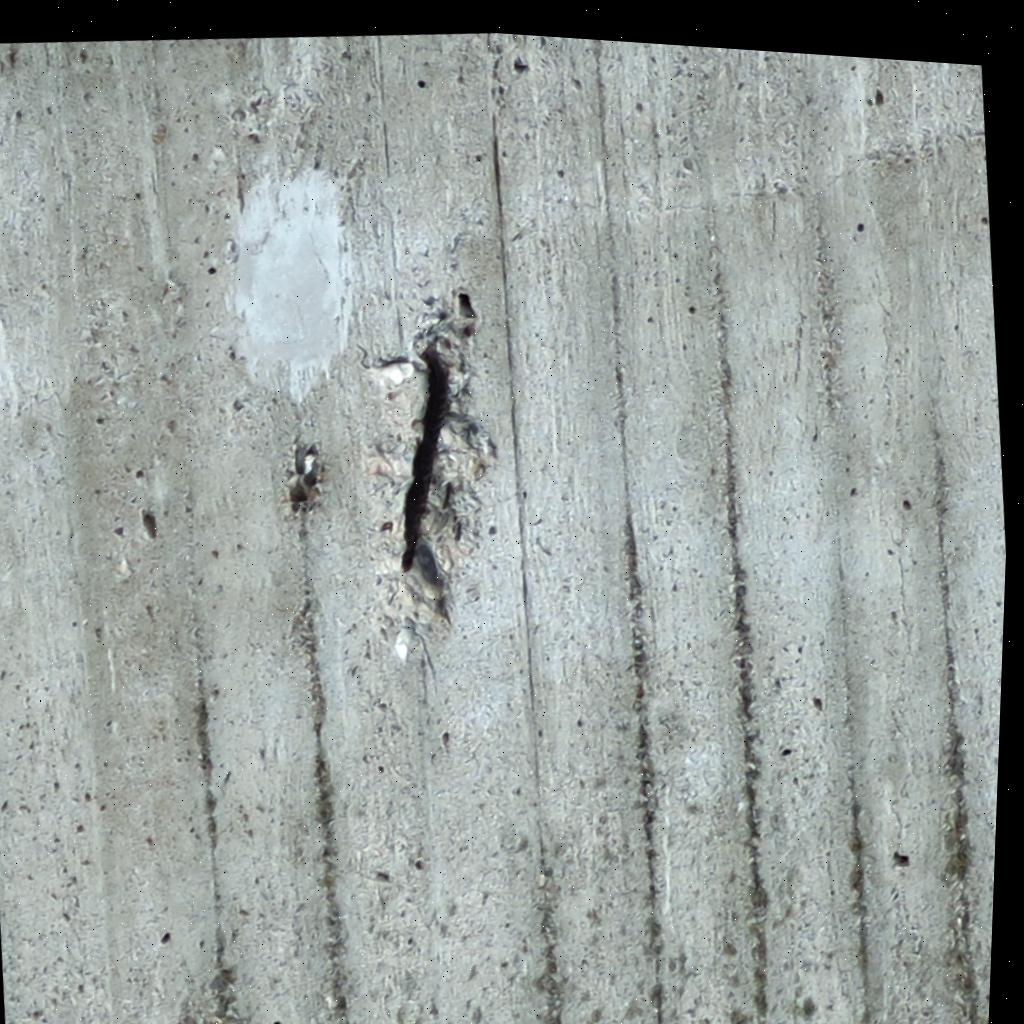exposed_rebar: (401, 345, 450, 571)
spalling: (398, 312, 495, 619)
